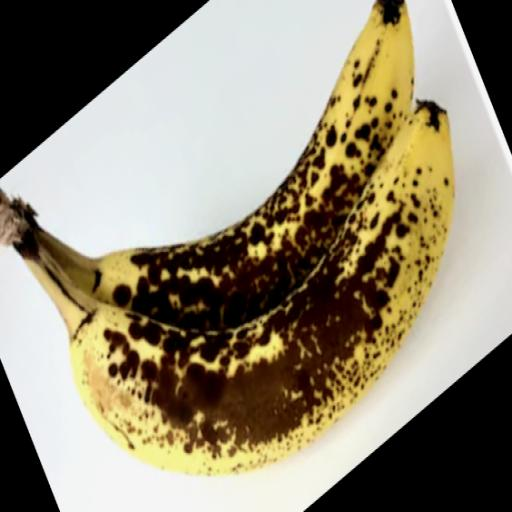banana-overripe: (2, 14, 467, 506)
